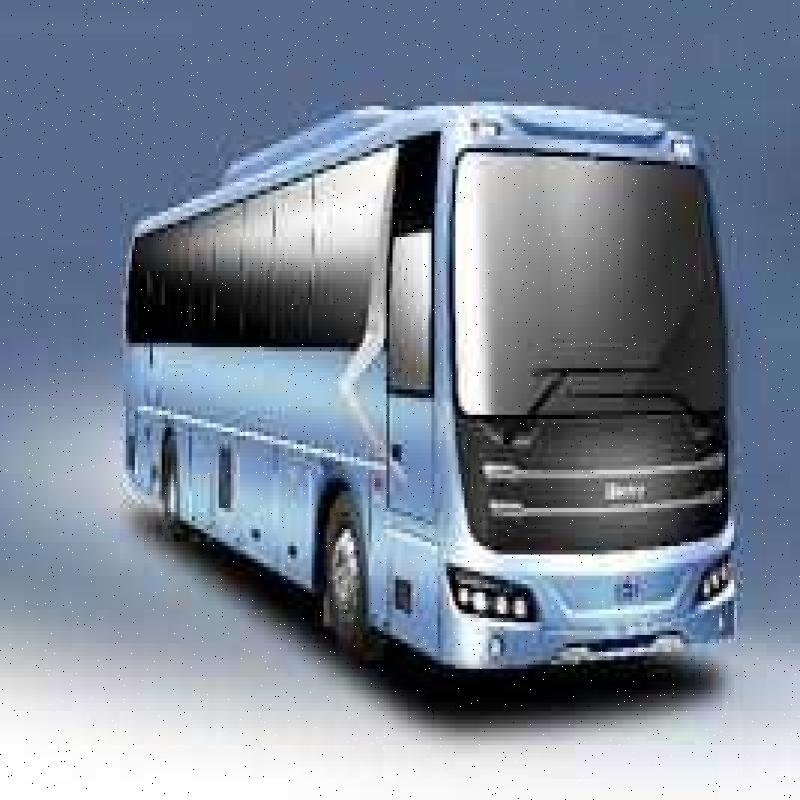bus: (84, 74, 772, 728)
